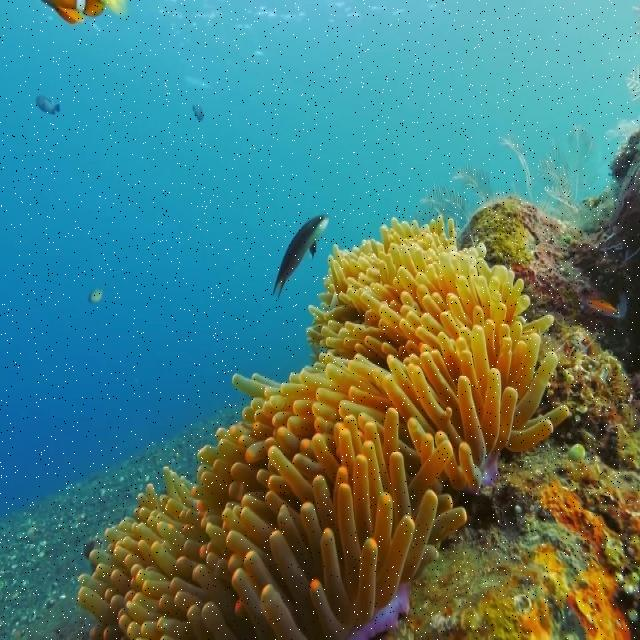fish: (271, 209, 331, 303), (40, 0, 130, 29), (35, 96, 62, 116), (190, 106, 206, 122), (90, 289, 105, 304)
reefs: (76, 215, 573, 639)
